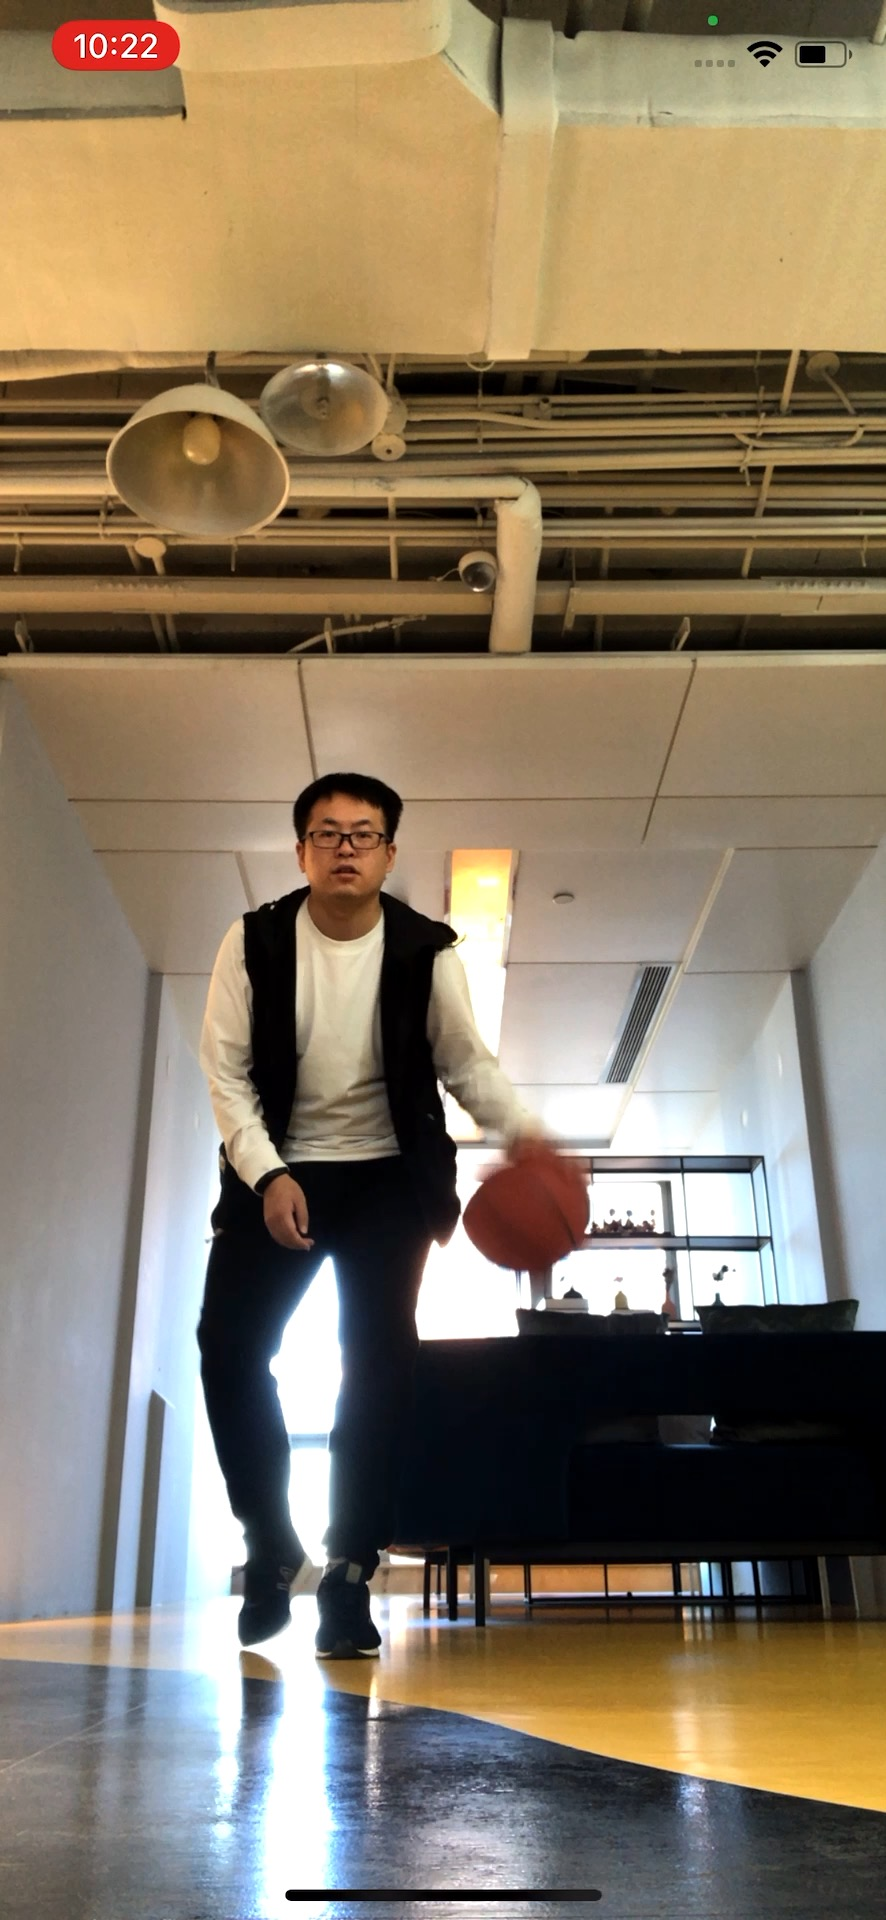ball: (461, 1160, 596, 1273)
